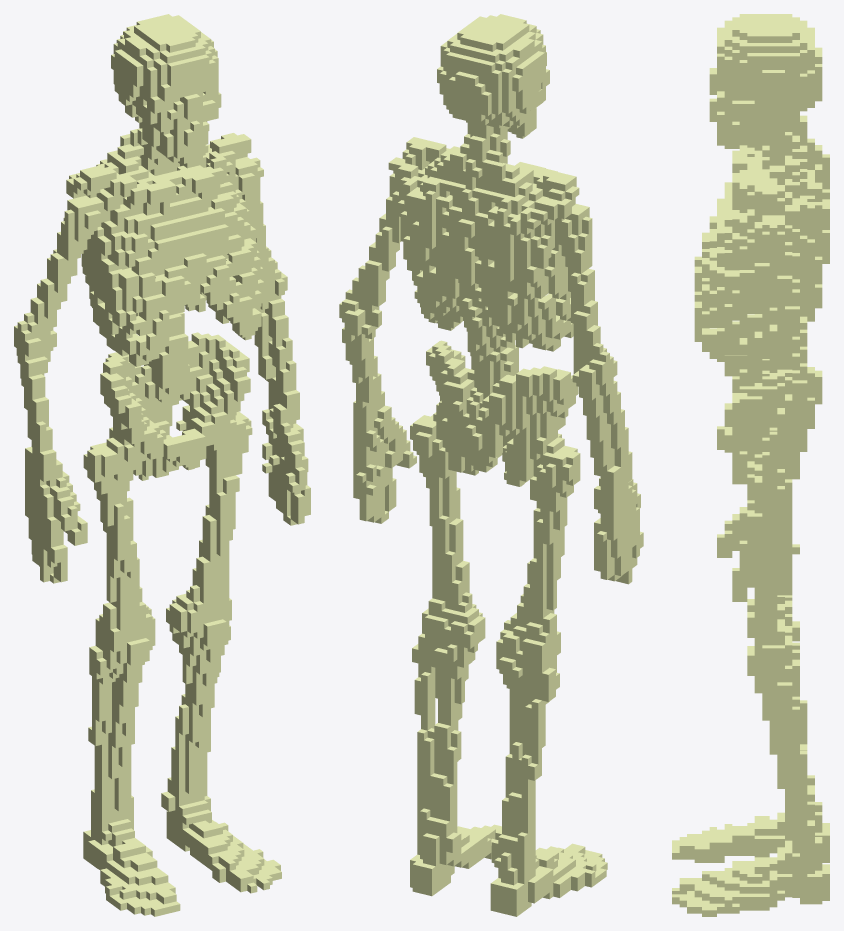
File: skeleton_standing.obj
The picture shows the model from 3 angles, left to right: view 1: azimuth 30°, elevation 25°; view 2: azimuth 150°, elevation 25°; view 3: azimuth 270°, elevation 25°; orthographic projection.
Bounding box in the file's own units: 41 × 125 × 21.
Materials: 1 (1 with a texture image).
